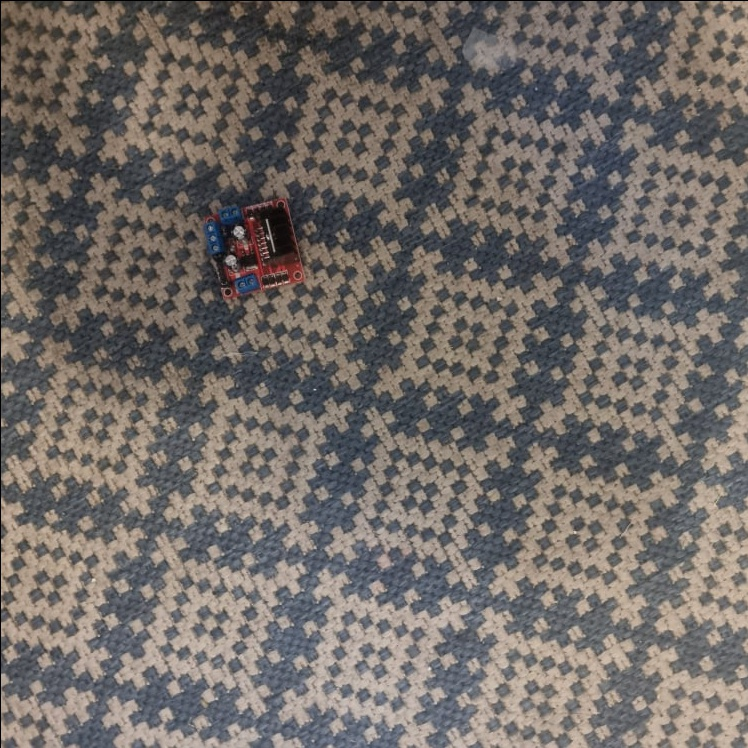MOTOR: (201, 191, 303, 300)
